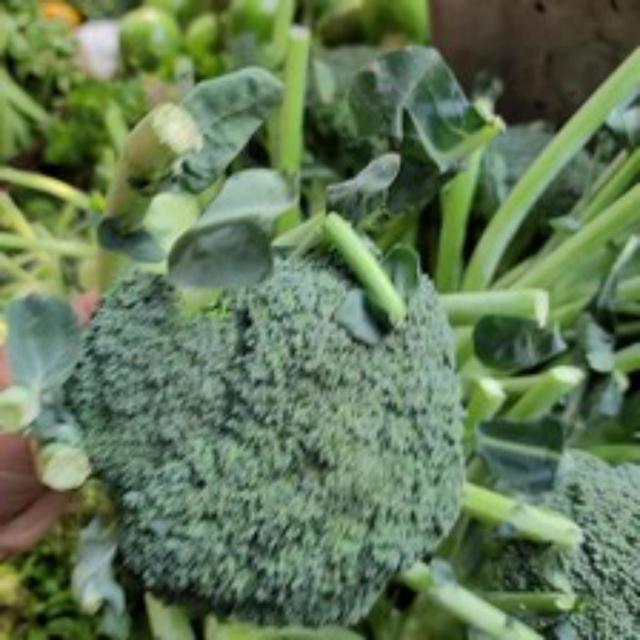broccoli: (76, 228, 487, 634)
